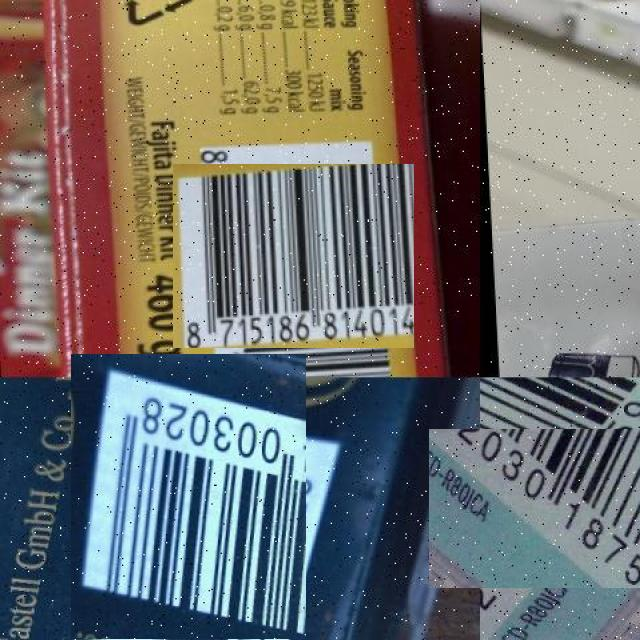Barcode: (46, 379, 332, 640), (187, 149, 400, 363), (455, 402, 640, 614)
